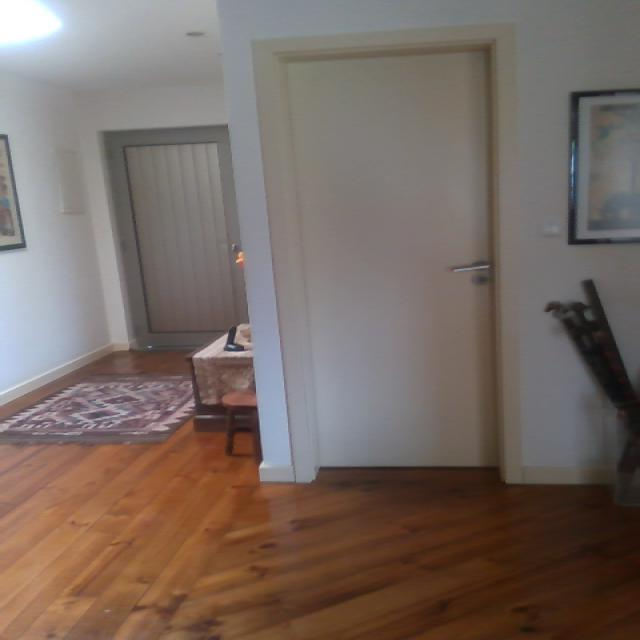Door: (274, 40, 500, 471)
